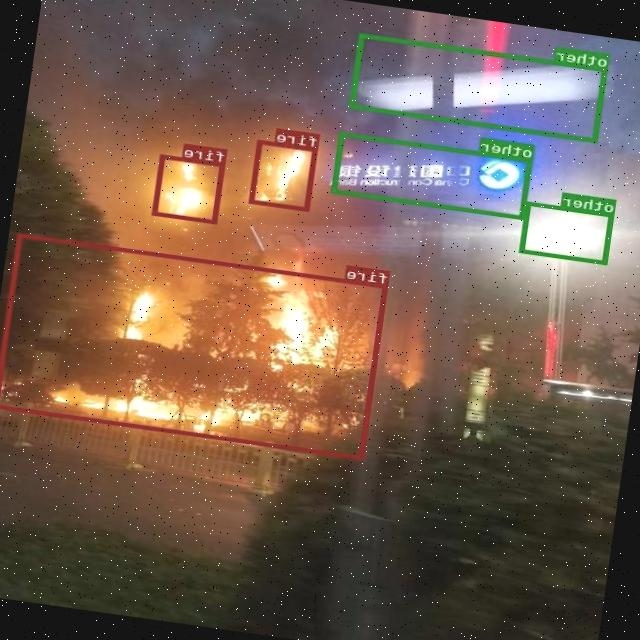fire: (0, 232, 389, 459), (154, 154, 226, 223), (250, 139, 318, 211)
